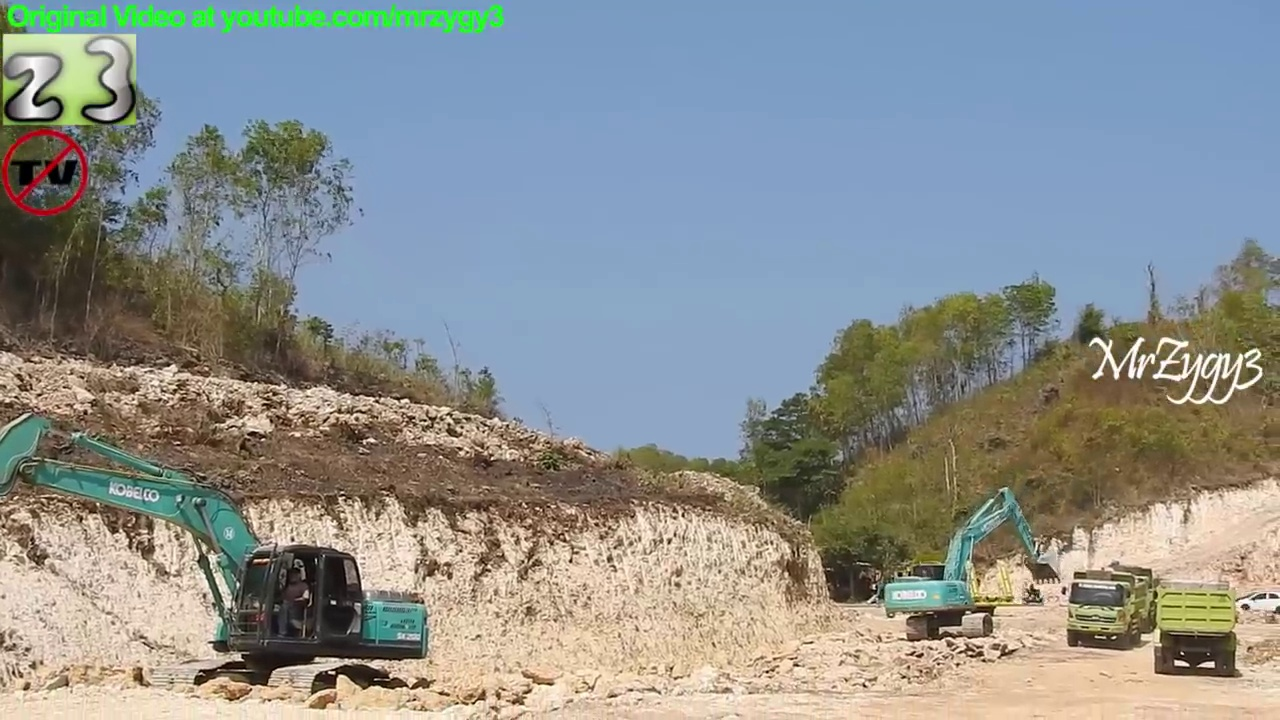car: (1234, 589, 1280, 616)
excavator: (1, 401, 432, 699), (880, 483, 1064, 643)
truck: (1151, 581, 1245, 676), (1070, 561, 1157, 646)
